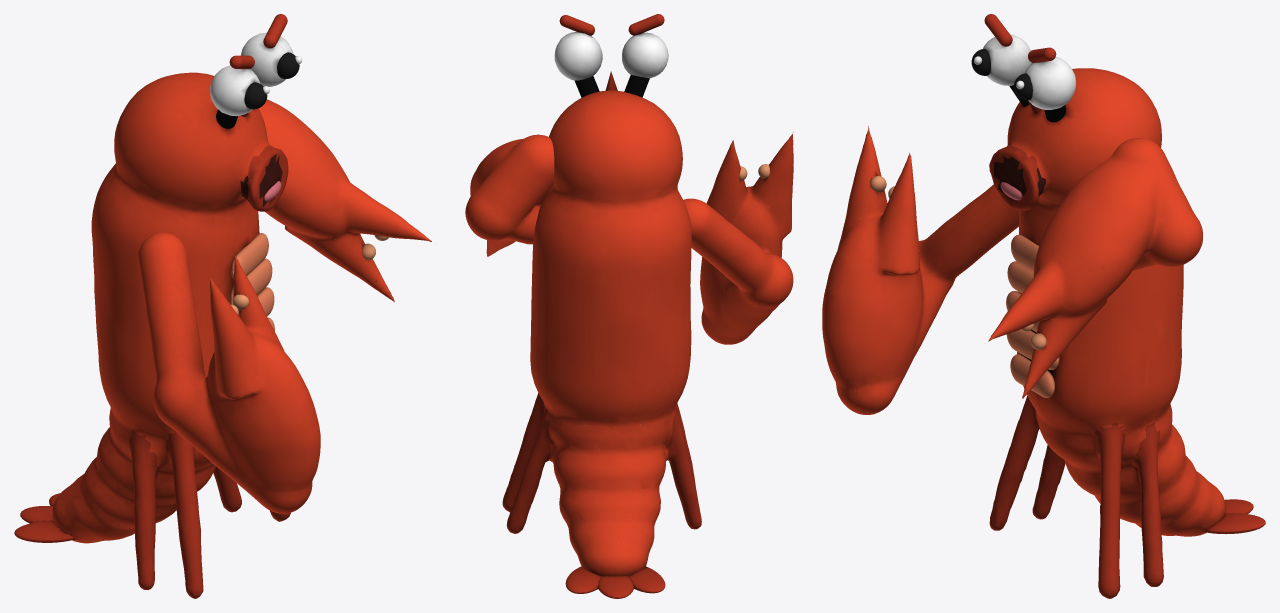
File: jag-ar-pa-vag.glb
3 views of the same model, side by side, from view 1: azimuth 30°, elevation 25°; view 2: azimuth 150°, elevation 25°; view 3: azimuth 270°, elevation 25° (orthographic). The views are drawn at different scales.
Visible parts, largest first — view 1: lagosta__r0, garraCelular__r0, garraTimao__r0, lagosta__r15, lagosta__r4, lagosta__r3; view 2: lagosta__r0, garraCelular__r0, garraTimao__r0, lagosta__r17, lagosta__r16, lagosta__r15, lagosta__r10; view 3: lagosta__r0, garraCelular__r0, garraTimao__r0, lagosta__r18, lagosta__r17, lagosta__r4, lagosta__r1, lagosta__r3.
Boxes of the visible parts, x1,y1,x2,y2 form: lagosta__r0: [52, 32, 293, 598]; garraCelular__r0: [138, 232, 320, 513]; garraTimao__r0: [258, 99, 431, 302]; lagosta__r15: [14, 521, 75, 542]; lagosta__r4: [230, 233, 268, 278]; lagosta__r3: [229, 258, 272, 304]; lagosta__r0: [502, 32, 701, 576]; garraCelular__r0: [683, 132, 793, 344]; garraTimao__r0: [465, 134, 554, 256]; lagosta__r17: [565, 566, 601, 593]; lagosta__r16: [598, 576, 634, 598]; lagosta__r15: [628, 566, 665, 593]; lagosta__r10: [628, 14, 664, 35]; lagosta__r0: [983, 34, 1225, 598]; garraCelular__r0: [822, 126, 1019, 414]; garraTimao__r0: [988, 138, 1202, 398]; lagosta__r18: [1010, 354, 1055, 397]; lagosta__r17: [1205, 513, 1265, 533]; lagosta__r4: [1011, 234, 1038, 271]; lagosta__r1: [1006, 329, 1059, 370]; lagosta__r3: [1007, 261, 1033, 293].
Bounding box in the file's own units: 1.21 × 2.02 × 1.49.
